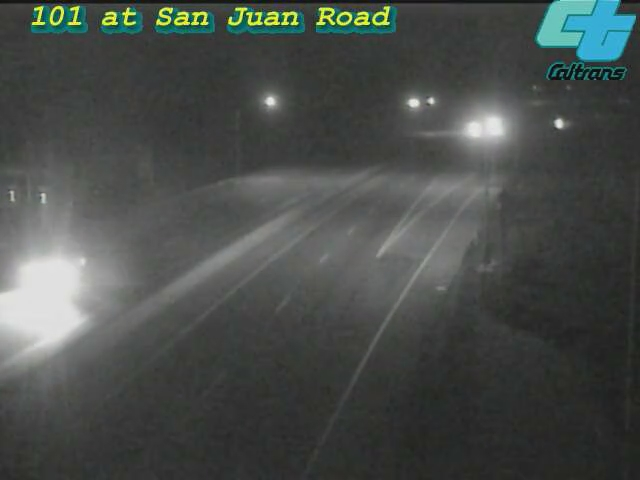vehicle: (5, 235, 85, 315), (533, 100, 583, 150), (448, 105, 498, 155), (467, 101, 517, 151)
